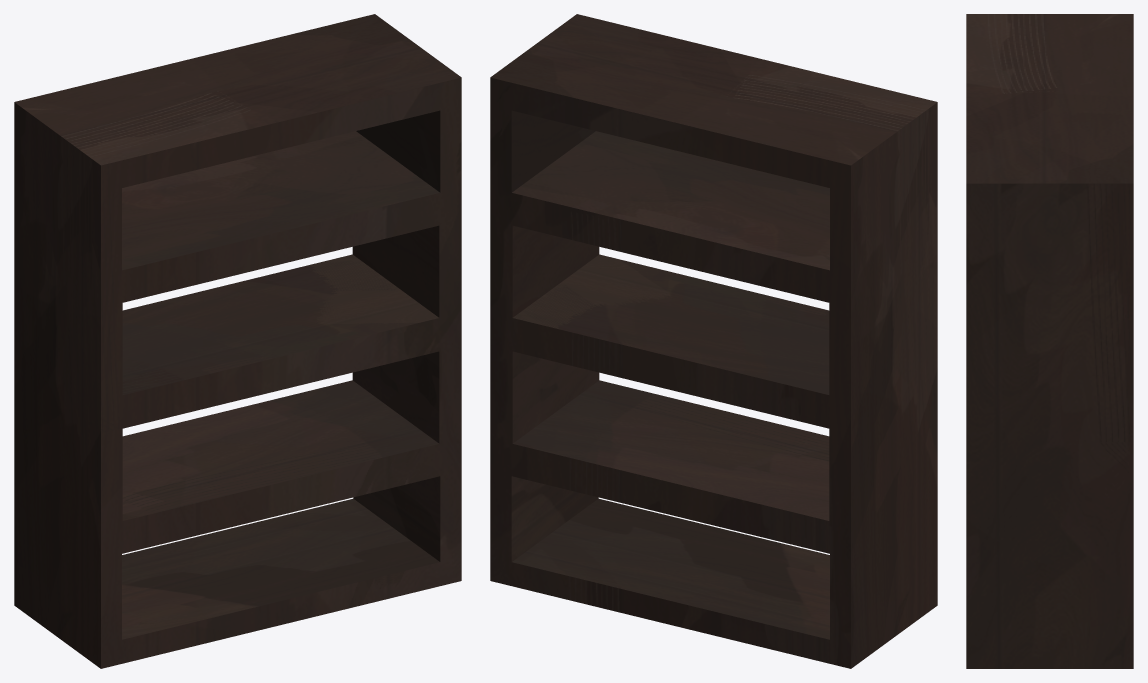
File: M-Shelve.fbx
The picture shows the model from 3 angles, left to right: view 1: azimuth 30°, elevation 25°; view 2: azimuth 150°, elevation 25°; view 3: azimuth 270°, elevation 25°; orthographic projection. The views are drawn at different scales.
Visible parts, largest first — view 1: Cube; view 2: Cube; view 3: Cube.
Boxes of the visible parts, x1,y1,x2,y2 form: Cube: (14,14,461,668); Cube: (490,14,937,668); Cube: (966,14,1133,668).
Size of the model in its own units: 60 by 25 by 80.
1 material, 1 textured.
